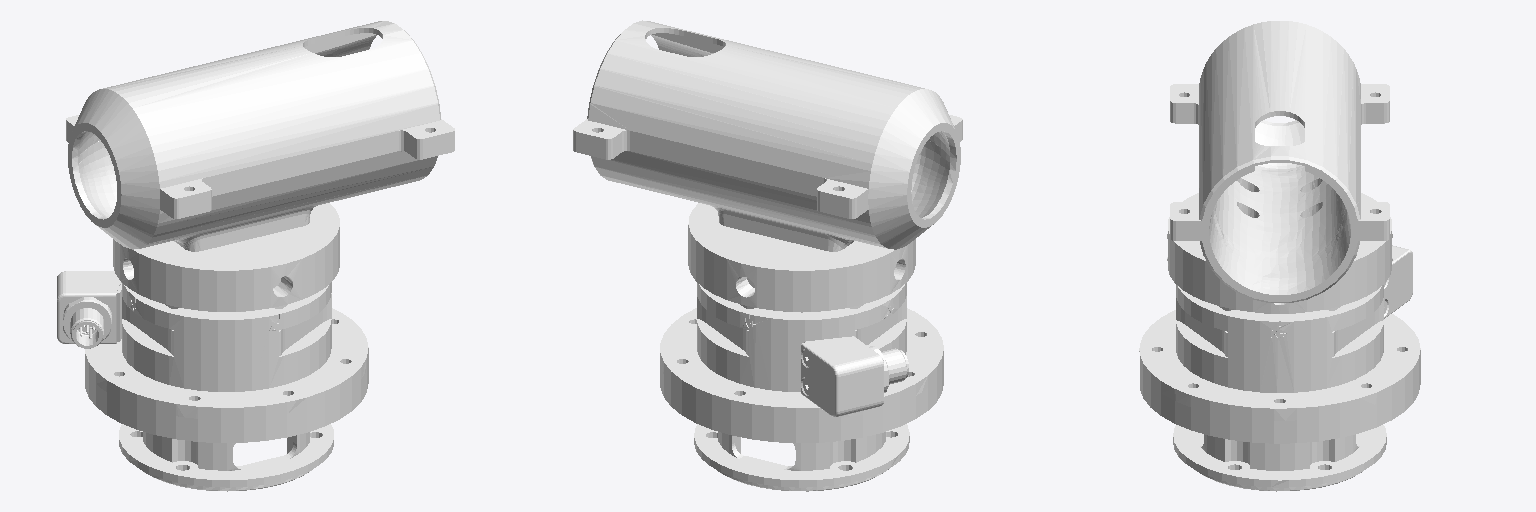
URDF robot description (adaptor_description):
<?xml version="1.0" encoding="utf-8"?>
<!-- This URDF was automatically created by SolidWorks to URDF Exporter! Originally created by [author] ([email redacted]) 
     Commit Version: 1.6.0-4-g7f85cfe  Build Version: 1.6.7995.38578
     For more information, please see http://wiki.ros.org/sw_urdf_exporter -->
<robot
  name="adaptor_description">
  <link
    name="adaptor_base_link">
    <inertial>
      <origin
        xyz="-0.0015897 0.0012554 0.03991"
        rpy="0 0 0" />
      <mass
        value="0.3316" />
      <inertia
        ixx="0.0001341"
        ixy="-5.884E-08"
        ixz="-8.1474E-08"
        iyy="0.00013588"
        iyz="7.6324E-10"
        izz="0.0002384" />
    </inertial>
    <visual>
      <origin
        xyz="0 0 0"
        rpy="0 0 0" />
      <geometry>
        <mesh
          filename="package://adaptor_description/meshes/adaptor_base_link.STL" />
      </geometry>
      <material
        name="">
        <color
          rgba="1 1 1 1" />
      </material>
    </visual>
    <collision>
      <origin
        xyz="0 0 0"
        rpy="0 0 0" />
      <geometry>
        <mesh
          filename="package://adaptor_description/meshes/adaptor_base_link.STL" />
      </geometry>
    </collision>
  </link>
  <link
    name="sensor_link">
    <inertial>
      <origin
        xyz="0.0048347 -2.1042E-05 0.033921"
        rpy="0 0 0" />
      <mass
        value="0.0979" />
      <inertia
        ixx="8.4795E-05"
        ixy="-4.7663E-08"
        ixz="6.9975E-07"
        iyy="0.00018165"
        iyz="4.4138E-09"
        izz="0.00024653" />
    </inertial>
    <visual>
      <origin
        xyz="0 0 0"
        rpy="0 0 0" />
      <geometry>
        <mesh
          filename="package://adaptor_description/meshes/sensor_link.STL" />
      </geometry>
      <material
        name="">
        <color
          rgba="1 1 1 1" />
      </material>
    </visual>
    <collision>
      <origin
        xyz="0 0 0"
        rpy="0 0 0" />
      <geometry>
        <mesh
          filename="package://adaptor_description/meshes/sensor_link.STL" />
      </geometry>
    </collision>
  </link>
  <joint
    name="sensor_joint"
    type="fixed">
    <origin
      xyz="0 0 0.06835"
      rpy="0 0 0" />
    <parent
      link="adaptor_base_link" />
    <child
      link="sensor_link" />
    <axis
      xyz="0 0 0" />
  </joint>
</robot>

--- Render facts (derived) ---
3 views of the same robot in one strip: view 1: azimuth 30°, elevation 25°; view 2: azimuth 150°, elevation 25°; view 3: azimuth 270°, elevation 25° (orthographic).
Robot: adaptor_description — 2 links, 1 joints (1 fixed); root link adaptor_base_link; default pose: every joint at zero.
Links seen in each view (by area): view 1: sensor_link, adaptor_base_link; view 2: sensor_link, adaptor_base_link; view 3: sensor_link, adaptor_base_link.
Link boxes in pixels (x1,y1,x2,y2): sensor_link: (66,21,454,311); adaptor_base_link: (57,271,368,491); sensor_link: (573,20,962,311); adaptor_base_link: (660,283,943,491); sensor_link: (1167,21,1392,313); adaptor_base_link: (1139,245,1420,491).
Size in the robot's own frame: 0.125 by 0.1 by 0.1484 metres.
2 mesh visuals loaded from 2 distinct referenced files (2 binary STL).